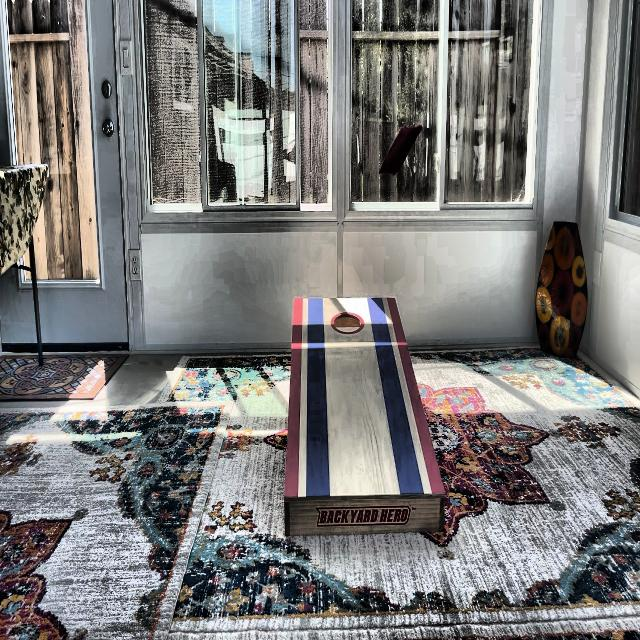board: (291, 297, 410, 494)
hole: (330, 310, 364, 334)
red-bean-bag: (379, 124, 422, 174)
